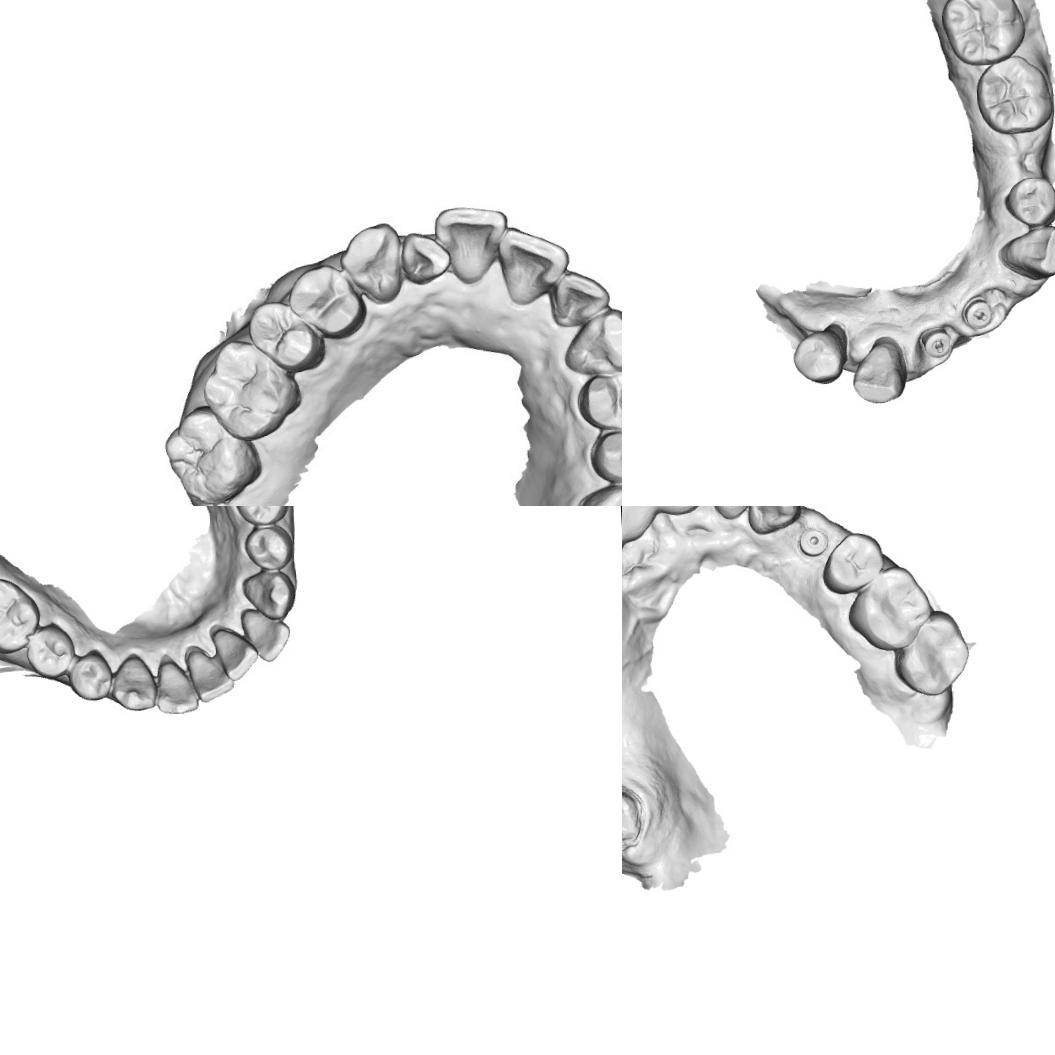canine: (338, 220, 405, 306), (561, 303, 622, 380), (848, 338, 908, 405), (997, 222, 1055, 282), (239, 565, 299, 622), (108, 650, 158, 712), (743, 506, 800, 536)
crown: (622, 779, 644, 847)
implant: (795, 524, 831, 558)
implant_minus: (918, 324, 953, 361), (960, 296, 995, 330)
incisor: (495, 222, 568, 305), (438, 204, 508, 284), (542, 264, 616, 331), (238, 605, 293, 665), (184, 642, 236, 704), (398, 227, 452, 285), (210, 624, 260, 684), (153, 654, 200, 716), (622, 506, 646, 543), (702, 506, 759, 521)
molar: (196, 339, 305, 442), (159, 407, 263, 506), (844, 562, 936, 655), (890, 606, 973, 698), (972, 51, 1054, 137), (937, 0, 1025, 68), (0, 574, 43, 655)
premolar: (284, 264, 364, 342), (246, 296, 320, 376), (818, 530, 886, 596), (788, 327, 849, 387), (23, 620, 76, 680), (574, 369, 622, 434), (1001, 173, 1055, 229), (242, 522, 296, 572), (584, 417, 622, 487), (65, 648, 113, 702), (231, 506, 290, 528)
